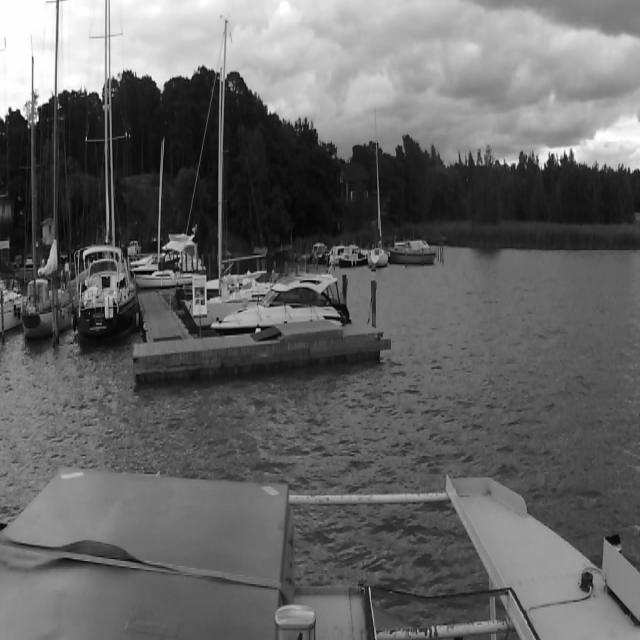ship: (176, 11, 278, 332), (70, 0, 139, 356), (16, 0, 68, 356), (209, 262, 355, 342), (133, 136, 195, 292), (364, 86, 390, 275), (391, 236, 439, 272), (323, 245, 348, 268)
